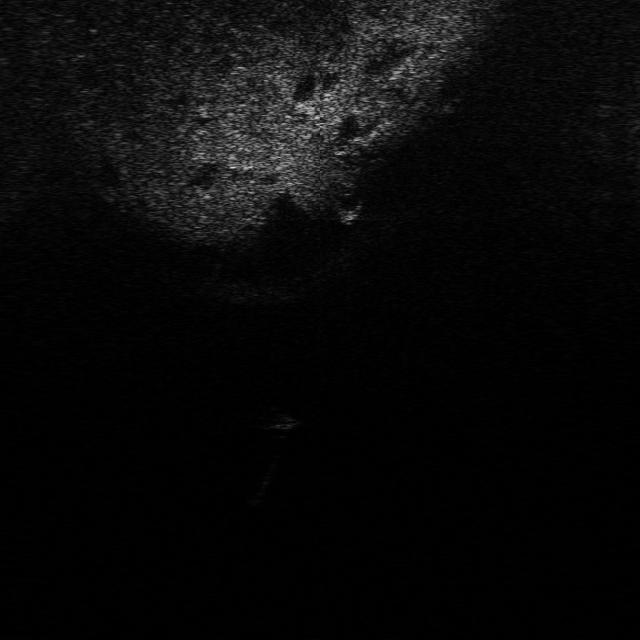ball: (330, 183, 364, 222)
cube: (252, 399, 308, 434)
